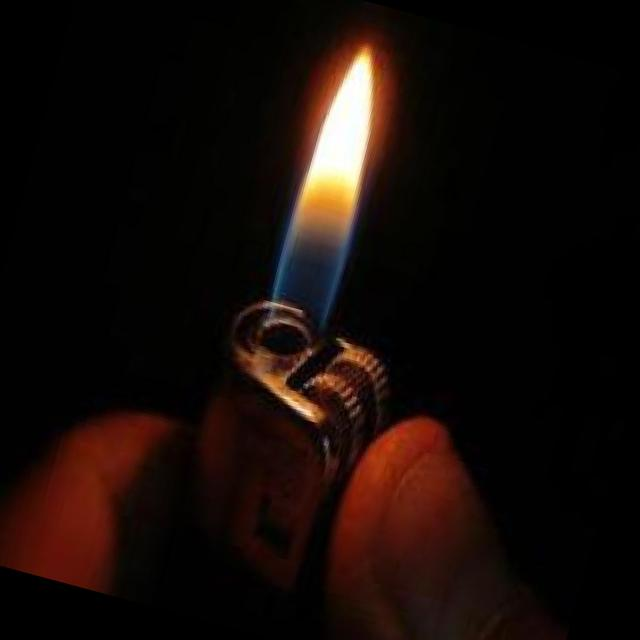Fire: (265, 39, 399, 338)
